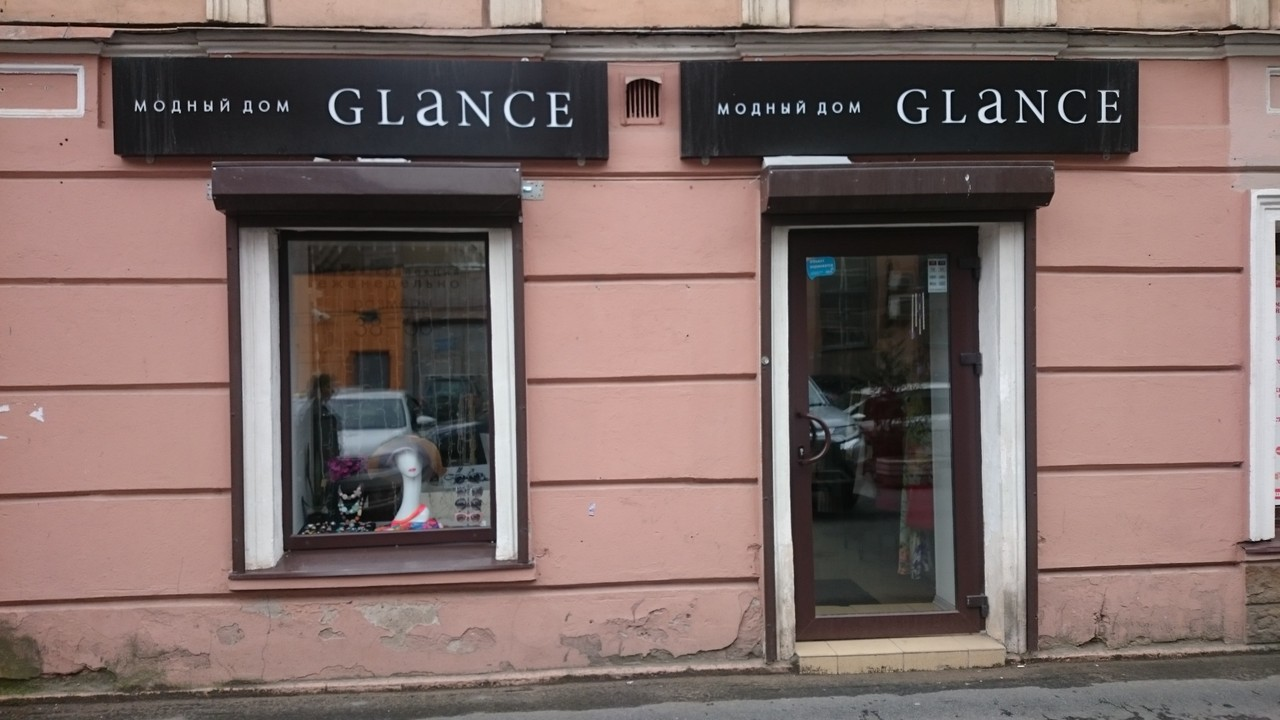door: (786, 229, 984, 636)
signboard: (109, 53, 612, 164), (676, 56, 1143, 156)
window: (288, 233, 486, 552)
